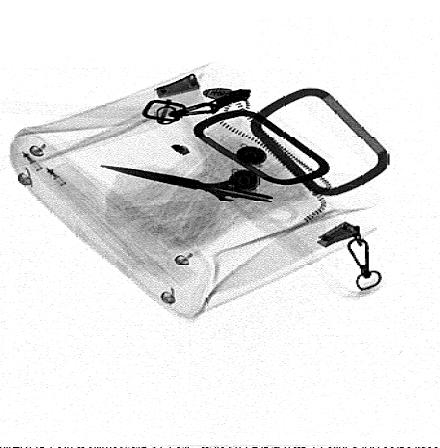Scissors: (96, 163, 311, 227)
